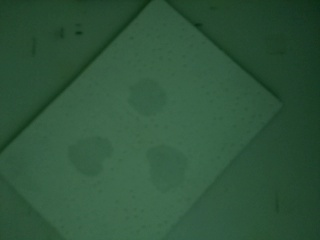Water_detected: (126, 73, 168, 116), (154, 150, 192, 194), (78, 138, 115, 179)
